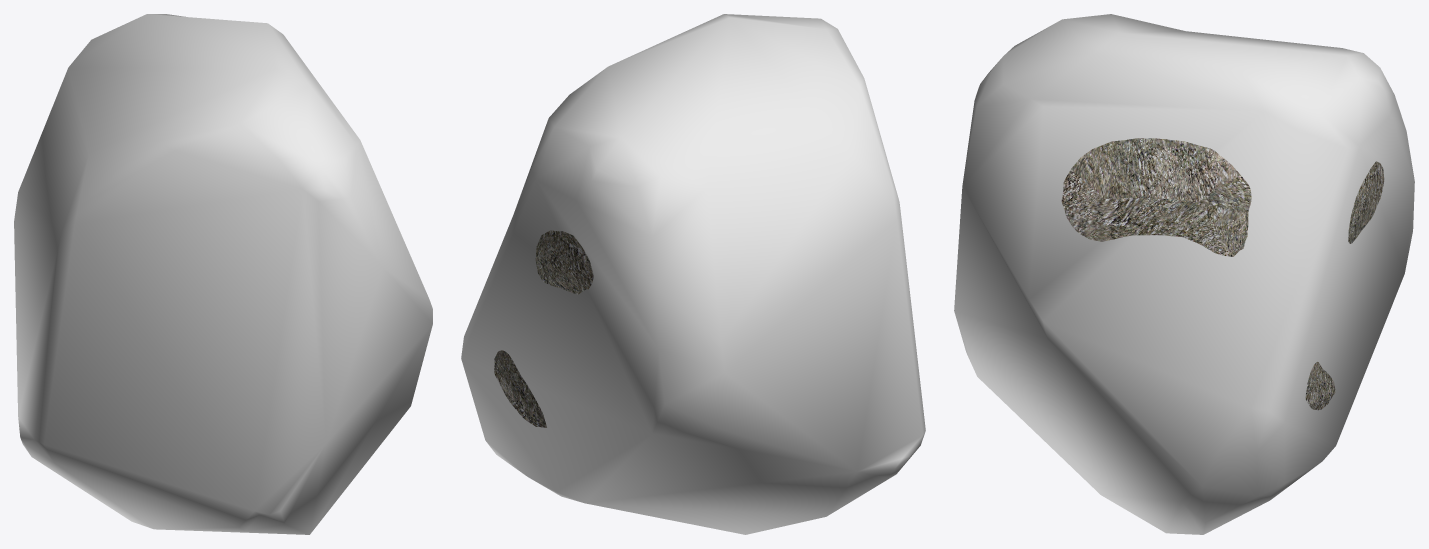
Rendered from boulder_1.dae.
The picture shows the model from 3 angles, left to right: view 1: azimuth 30°, elevation 25°; view 2: azimuth 150°, elevation 25°; view 3: azimuth 270°, elevation 25°; orthographic projection. The views are drawn at different scales.
Visible parts, largest first — view 1: volume; view 2: volume, boulder; view 3: volume, boulder.
Boxes of the visible parts, x1,y1,x2,y2 form: volume: (14, 14, 432, 534); volume: (461, 14, 925, 534); boulder: (494, 230, 593, 427); volume: (954, 14, 1414, 534); boulder: (1061, 138, 1384, 410).
Size of the model in its own units: 2.02 by 2.07 by 2.32.
1 material, 1 textured.
